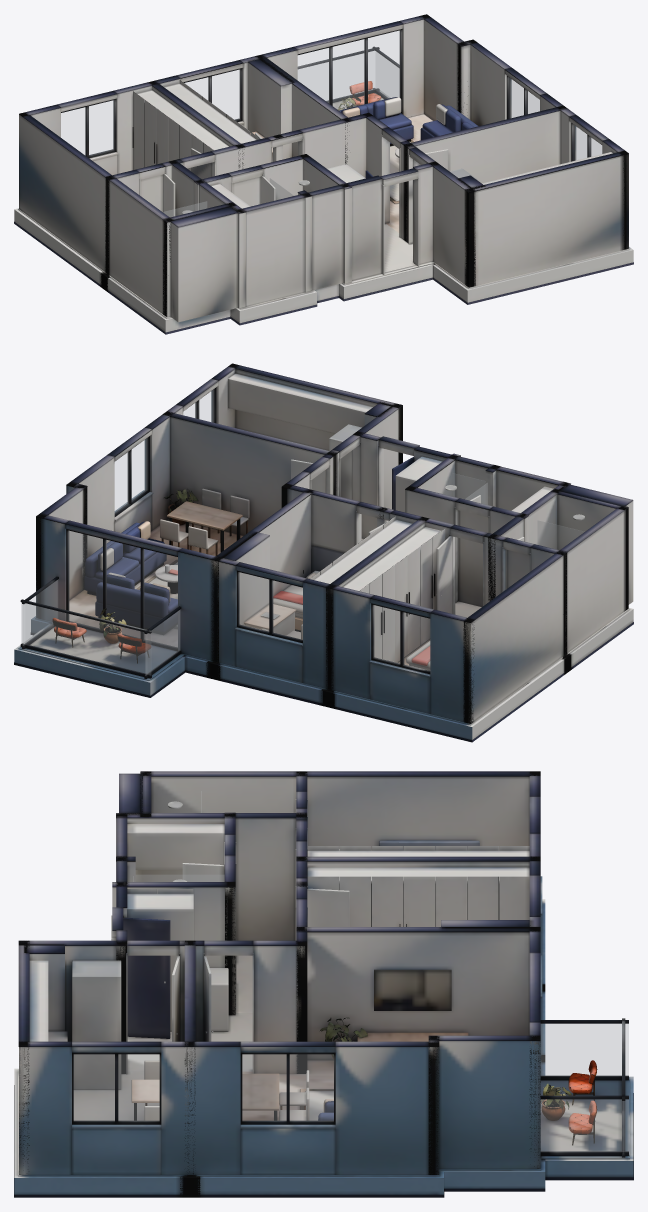
3 renders of one model, top to bottom at view 1: azimuth 30°, elevation 25°; view 2: azimuth 150°, elevation 25°; view 3: azimuth 270°, elevation 25°, orthographic. The views are drawn at different scales.
Visible parts, largest first — view 1: plan, glass2_m, glass0_m, railg0_m, glass1_m, railg4_m, glass3_m, glass4_m; view 2: plan, glass2_m, railg0_m, glass1_m, glass0_m, glass3_m, railg3_m, railg4_m, sg.002_m, sg.001_m, glass4_m; view 3: plan, glass3_m, glass4_m, railg4_m, railg3_m, sg_m.
Boxes of the visible parts, <box> form: plan: <box>14,14,633,334</box>; glass2_m: <box>298,31,400,110</box>; glass0_m: <box>61,100,114,155</box>; railg0_m: <box>298,51,374,100</box>; glass1_m: <box>185,70,240,119</box>; railg4_m: <box>376,52,398,97</box>; glass3_m: <box>509,78,539,118</box>; glass4_m: <box>573,125,601,160</box>; plan: <box>14,363,633,742</box>; glass2_m: <box>68,531,177,647</box>; railg0_m: <box>21,603,150,674</box>; glass1_m: <box>239,572,302,640</box>; glass0_m: <box>373,605,429,671</box>; glass3_m: <box>115,438,147,513</box>; railg3_m: <box>145,610,179,675</box>; railg4_m: <box>23,580,57,645</box>; sg.002_m: <box>537,520,584,549</box>; sg.001_m: <box>453,473,485,503</box>; glass4_m: <box>183,390,213,422</box>; plan: <box>14,771,633,1197</box>; glass3_m: <box>242,1054,333,1121</box>; glass4_m: <box>74,1054,159,1121</box>; railg4_m: <box>541,1099,628,1151</box>; railg3_m: <box>541,1024,628,1075</box>; sg_m: <box>136,875,224,881</box>.
Bounding box in the file's own units: 10.52 × 2.62 × 9.88.
Materials: 2 (1 with a texture image).
